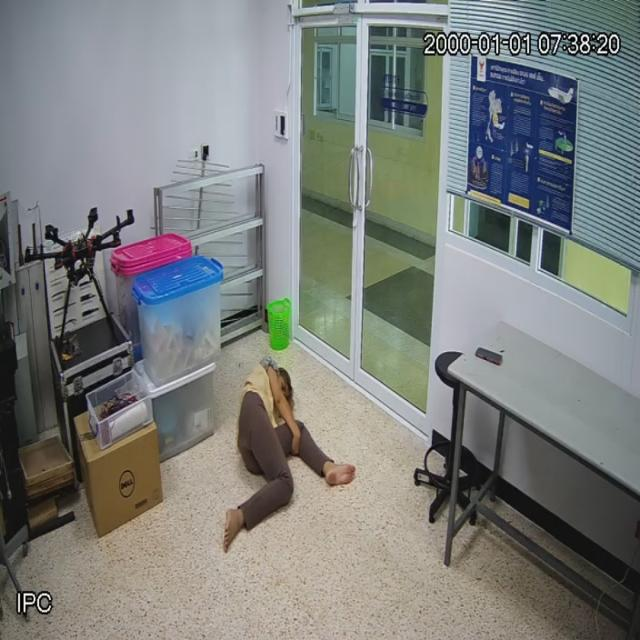fall: (212, 348, 359, 558)
